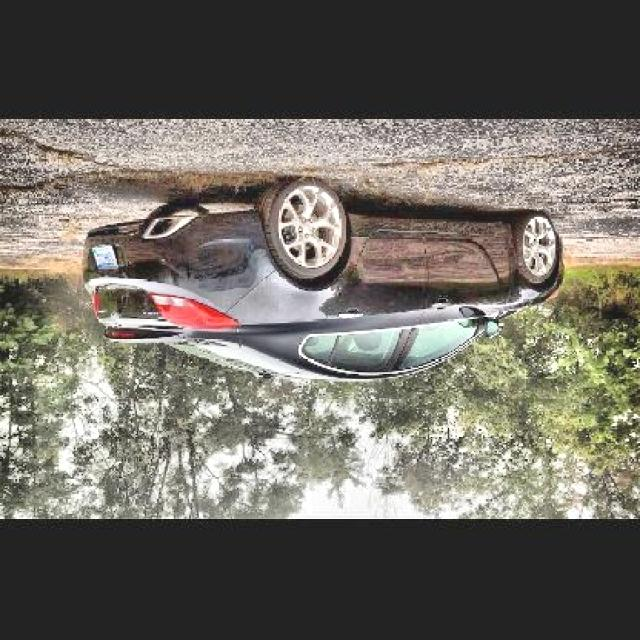black: (81, 182, 562, 380)
